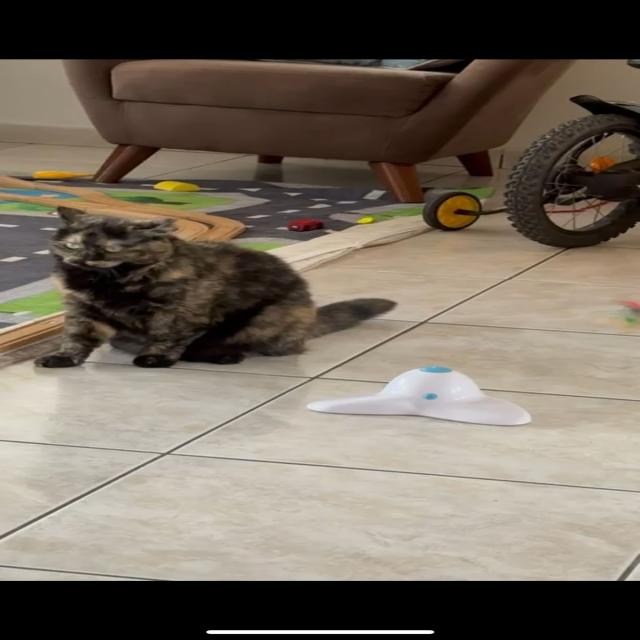authorized: (34, 204, 397, 368)
